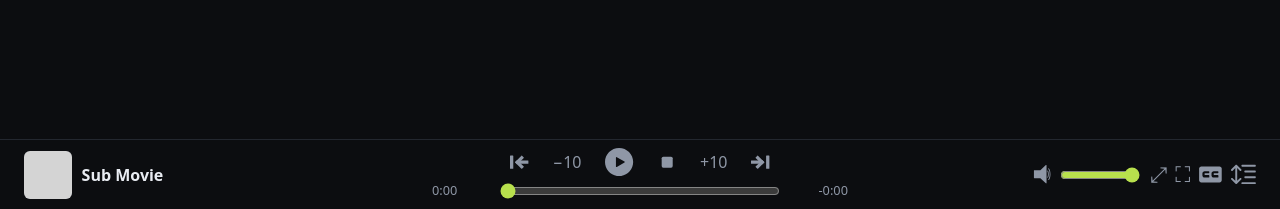
Test case: NowPlayingBar — captions menu › shows the busy/retry UX when burning in an image sub hits SERVER_BUSY
What coordinates should you click on to do the following:
click the 1st button with test id "now-playing-captions"
I would click on:
 (1211, 174)
Its box is x1=1198 y1=162 x2=1223 y2=187.
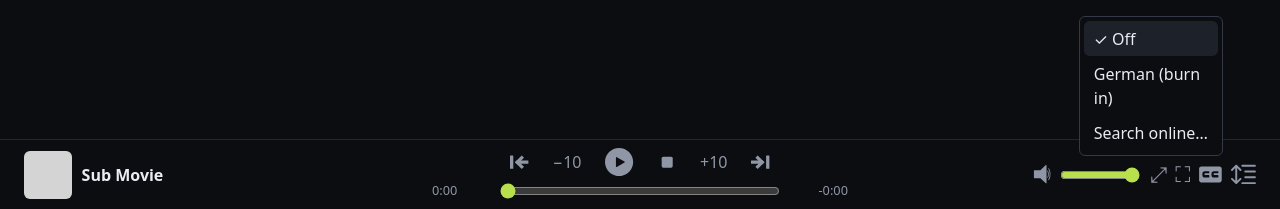
What coordinates should you click on to do the following:
click the menu item "German (burn in)"
I would click on:
 (1151, 86)
Its box is x1=1084 y1=56 x2=1218 y2=116.
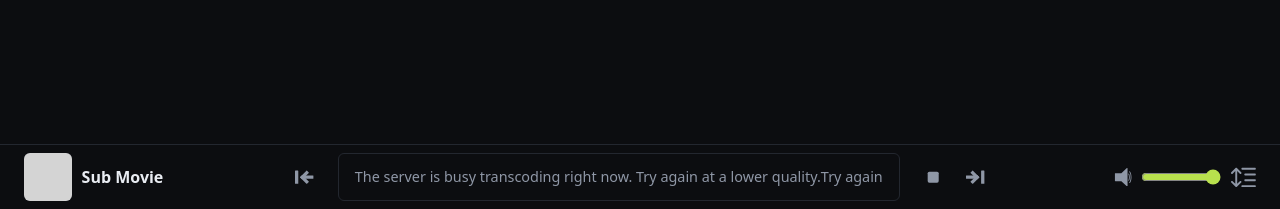
Expected: the element with test id "player-busy" is shown, x1=338 y1=153 x2=900 y2=201
Expected: the button with test id "player-busy-retry" is shown, x1=821 y1=166 x2=883 y2=188
